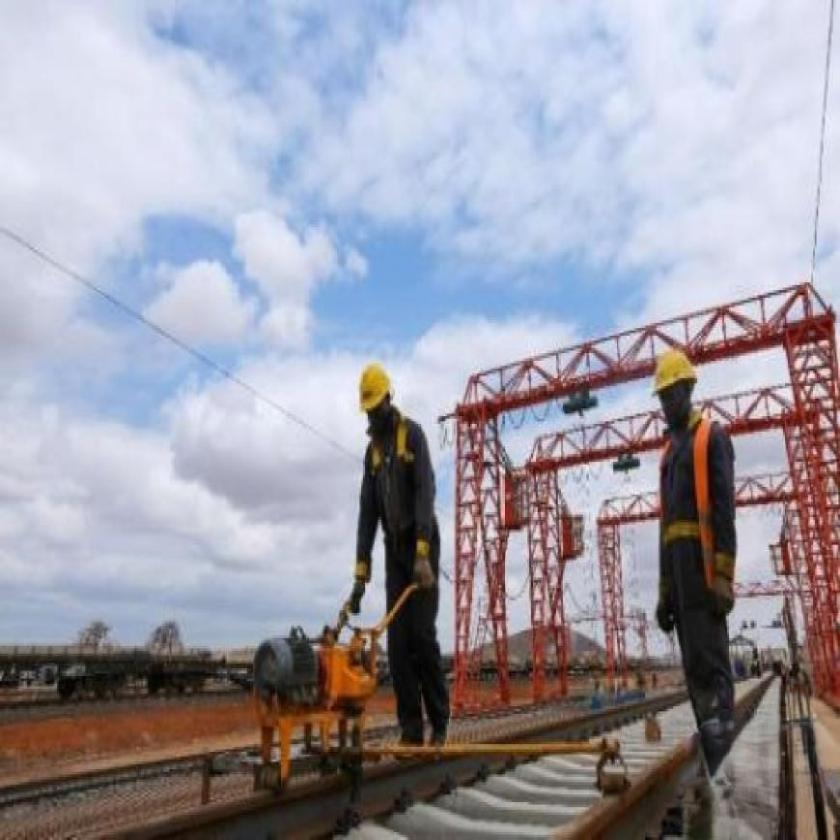Con_casco: (632, 328, 722, 426), (351, 348, 418, 430)
